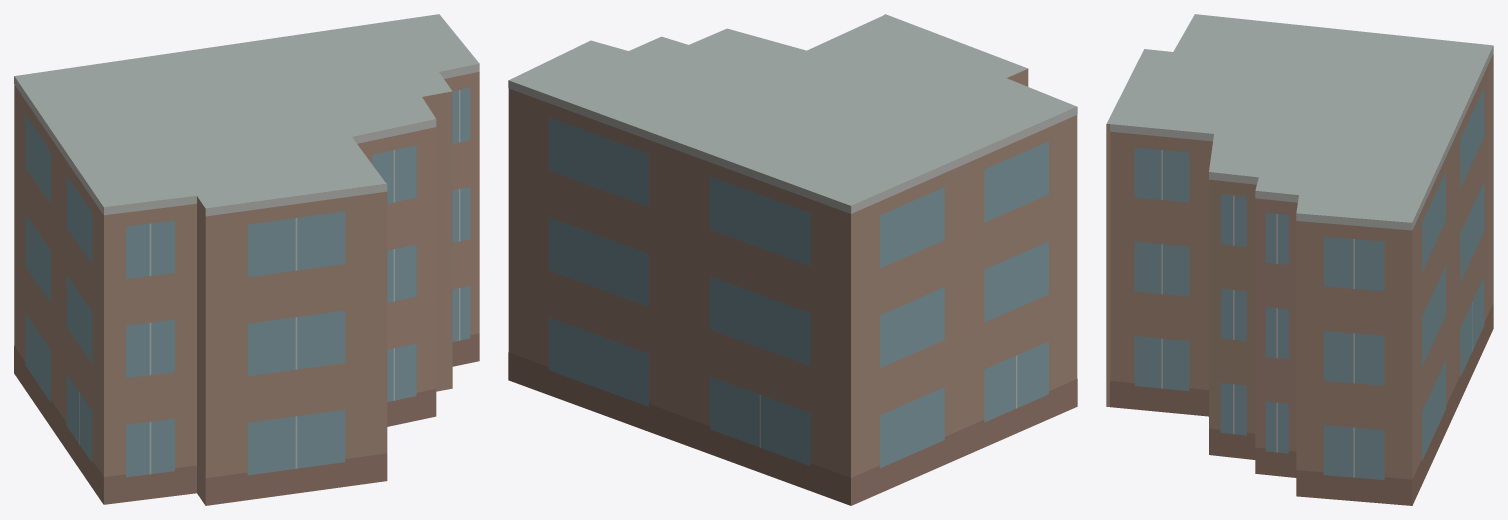
Rendered from survey-upis-32605817.glb.
3 renders of one model, left to right at view 1: azimuth 30°, elevation 25°; view 2: azimuth 150°, elevation 25°; view 3: azimuth 270°, elevation 25°, orthographic. The views are drawn at different scales.
Visible parts, largest first — view 1: survey-upis-32605817.tmp; view 2: survey-upis-32605817.tmp; view 3: survey-upis-32605817.tmp.
Boxes of the visible parts, x1=… form: survey-upis-32605817.tmp: x1=14, y1=14, x2=479, y2=505; survey-upis-32605817.tmp: x1=508, y1=14, x2=1077, y2=505; survey-upis-32605817.tmp: x1=1106, y1=14, x2=1493, y2=505.
Size of the model in its own units: 14.41 by 9.1 by 11.3.
